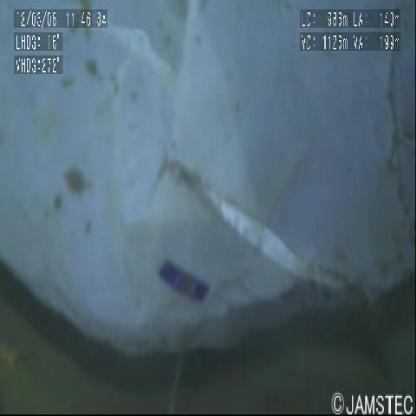Rác: (1, 1, 416, 378)
